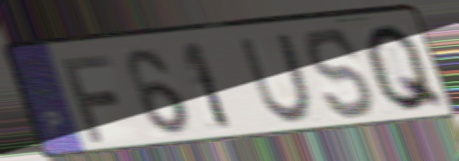1: (181, 38, 235, 135)
6: (126, 45, 195, 139)
F: (56, 51, 120, 146)
Q: (361, 20, 450, 116)
S: (304, 25, 379, 123)
U: (236, 30, 317, 126)
